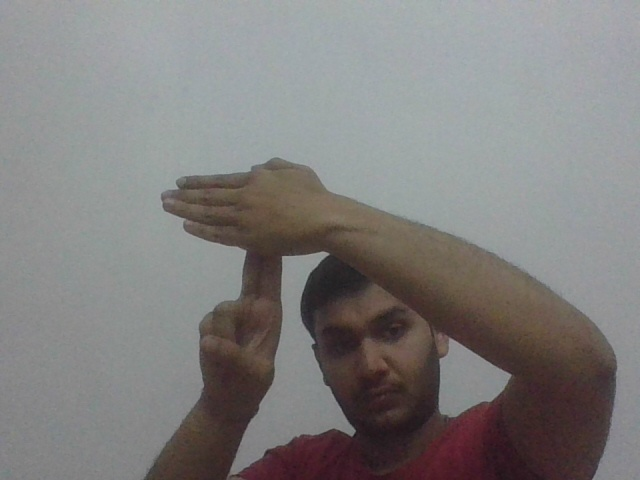N: (160, 156, 305, 293)
